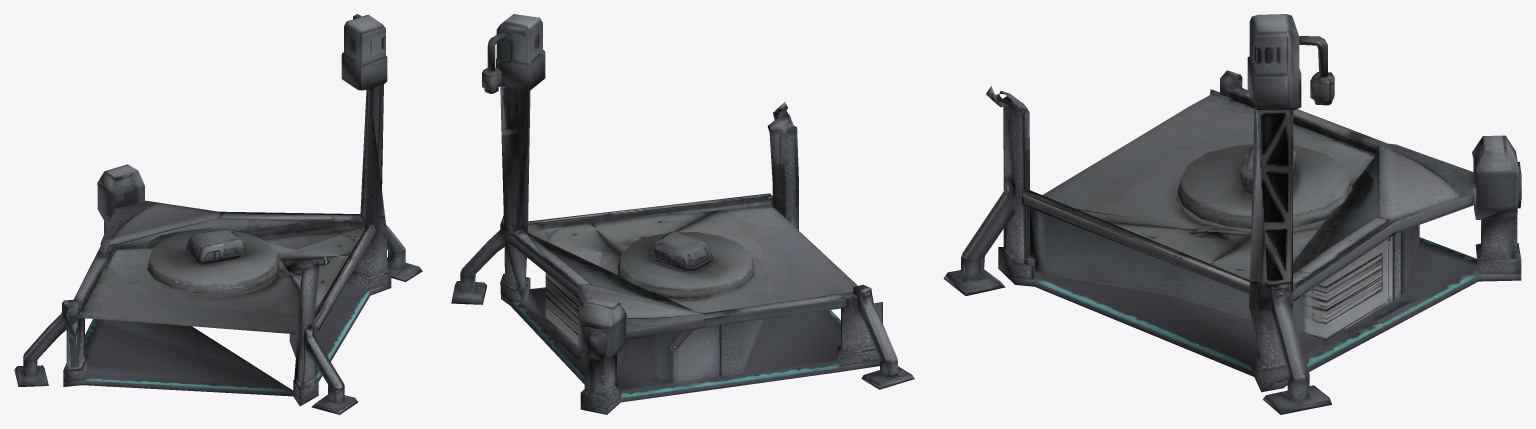
The model's file is machine.glb.
3 views of the same model, side by side, from view 1: azimuth 30°, elevation 25°; view 2: azimuth 150°, elevation 25°; view 3: azimuth 270°, elevation 25° (orthographic). The views are drawn at different scales.
Visible parts, largest first — view 1: machine; view 2: machine; view 3: machine.
Part boxes in pixels (x1,y1,x2,y2): machine: (14, 14, 422, 414); machine: (451, 14, 914, 414); machine: (943, 14, 1521, 414).
Bounding box in the file's own units: 1.15 × 0.697 × 1.02.
1 material, 1 textured.
